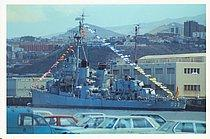MIL_Ship: (28, 31, 187, 111)
